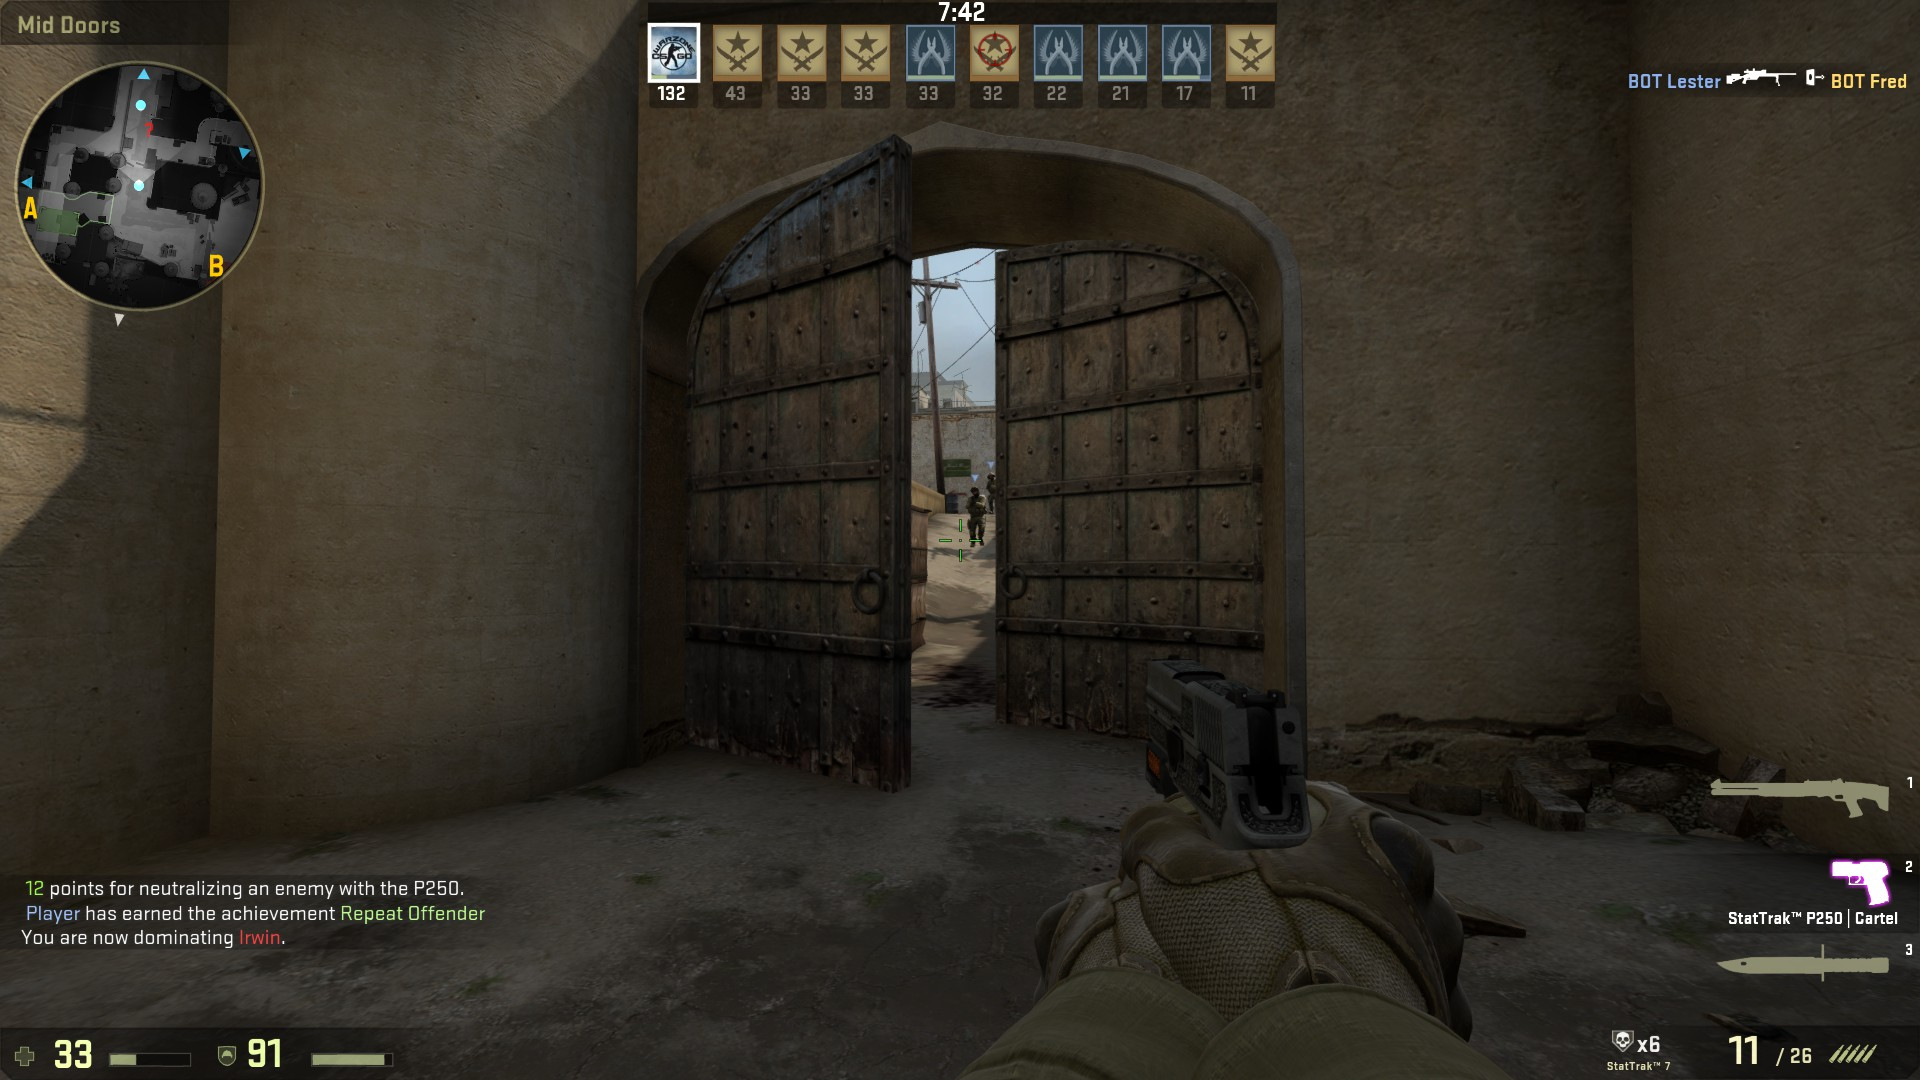c: (965, 487, 988, 549), (986, 472, 1000, 516)
ch: (969, 487, 982, 497), (986, 473, 996, 481)
